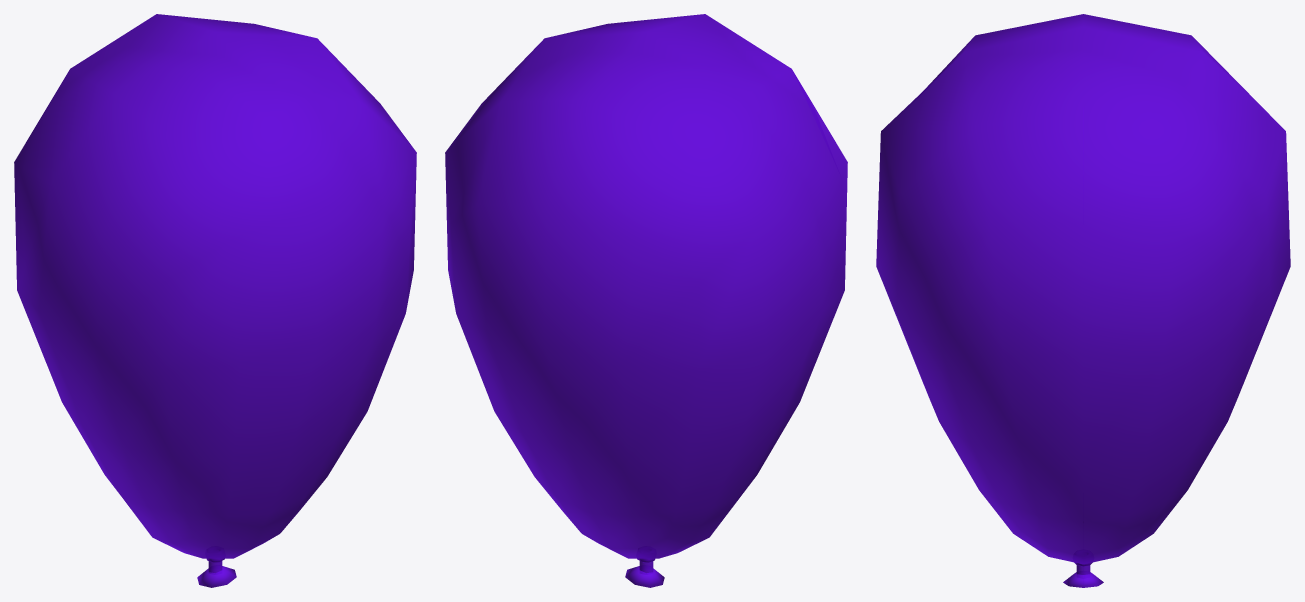
File: Balloon_v1.fbx
3 renders of one model, left to right at view 1: azimuth 30°, elevation 25°; view 2: azimuth 150°, elevation 25°; view 3: azimuth 270°, elevation 25°, orthographic.
Parts seen in each view (by area): view 1: pTorus2; view 2: pTorus2; view 3: pTorus2.
Boxes of the visible parts, x1,y1,x2,y2 form: pTorus2: (14, 14, 416, 587); pTorus2: (445, 14, 847, 587); pTorus2: (876, 14, 1290, 587).
Size of the model in its own units: 40.33 by 59.86 by 40.33.
